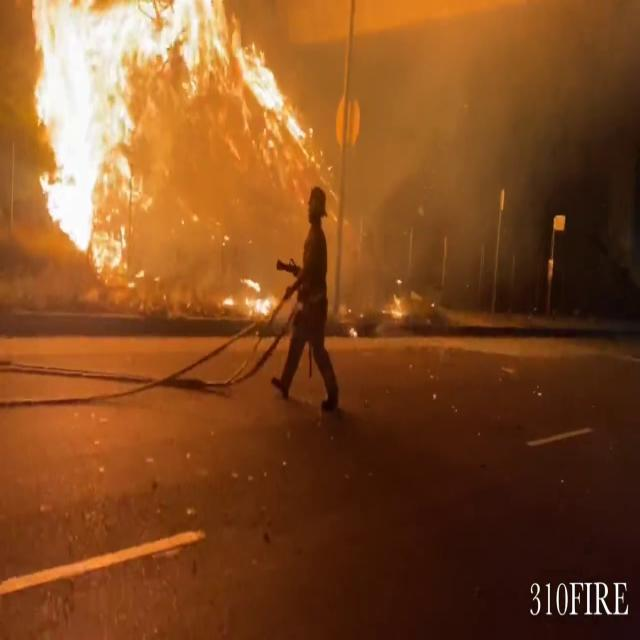Fire: (11, 0, 312, 269)
